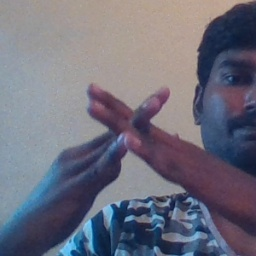W: (57, 75, 193, 172)
